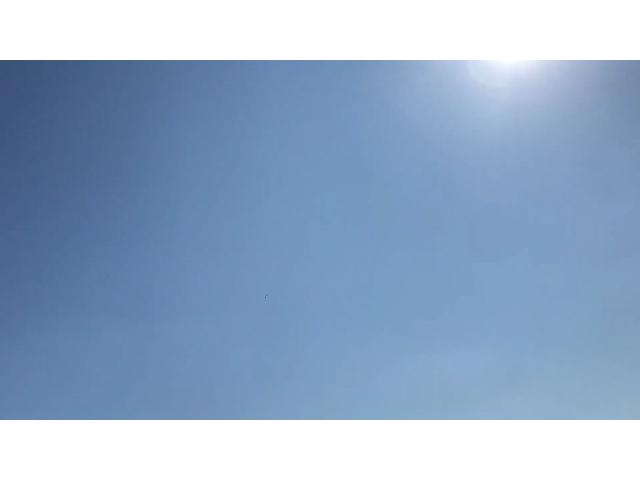Anti-Drone: (254, 287, 278, 304)
